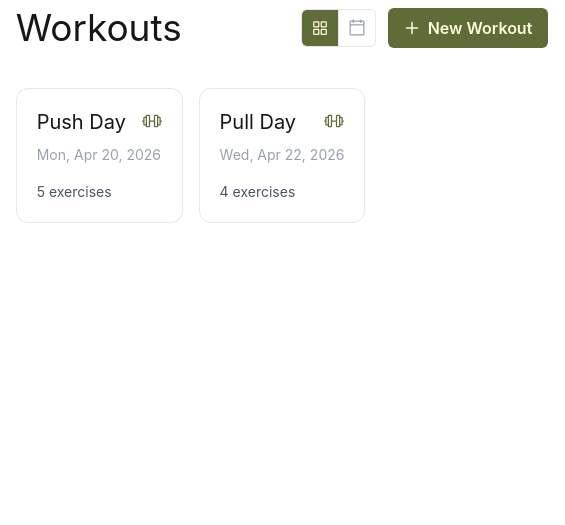
WorkoutsView — calendar view › navigates to the previous month on clicking the back arrow
Click the button named "Calendar view": (356, 28) 338,10 -> 375,46
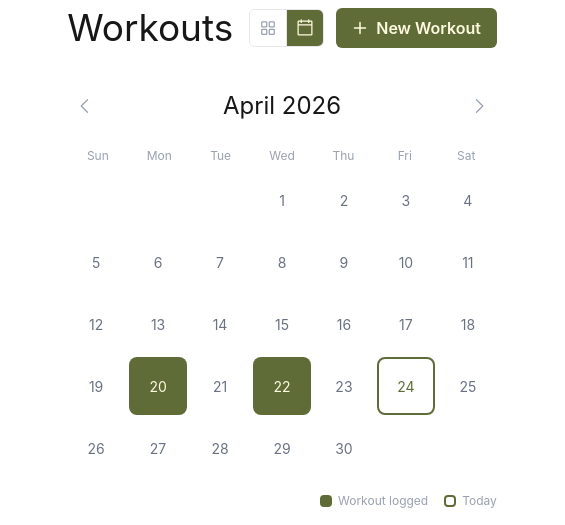
Click the button named "Previous month": (85, 106) 67,88 -> 103,124
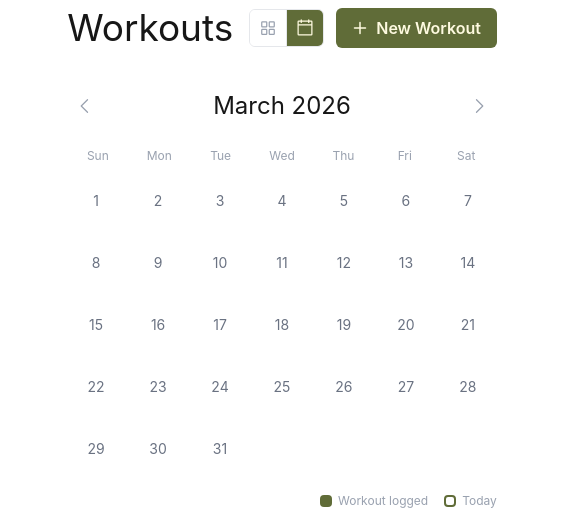
Result: the heading "March 2026" is shown at 213,88 -> 351,124
